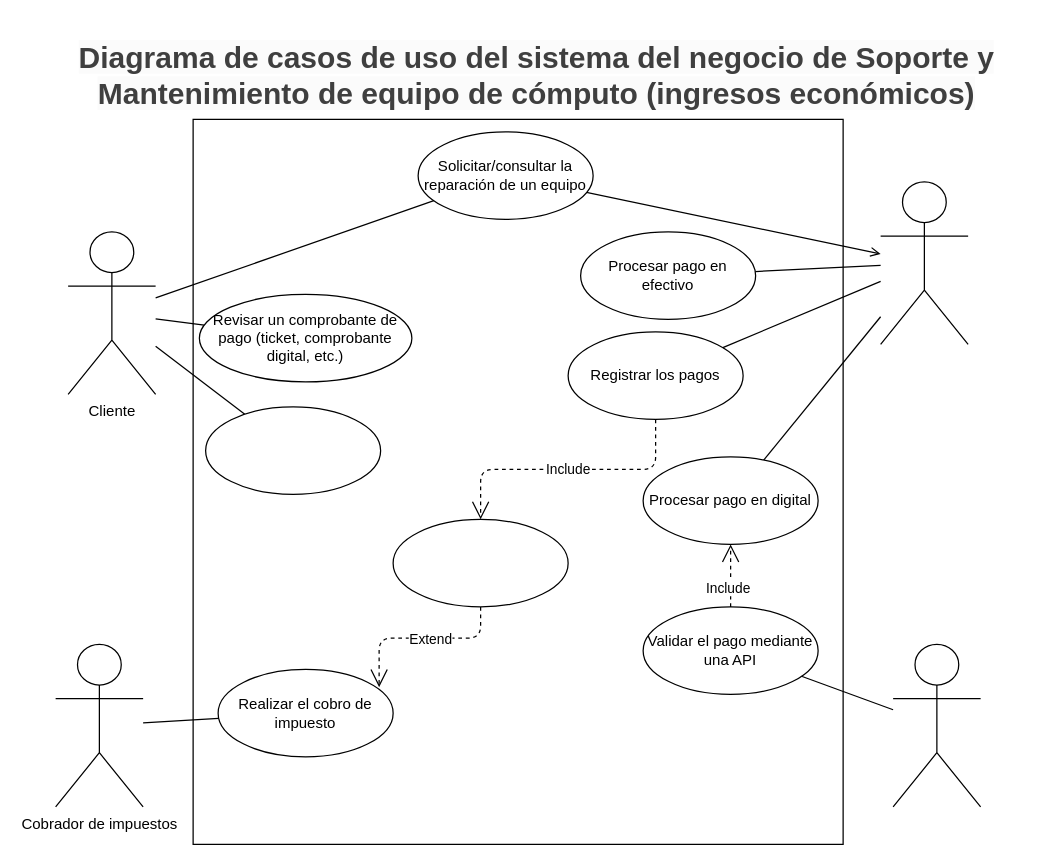
Image size: 1053x866. Some labels were removed from this diagram. Each missing label, with the centre of its shape:
"Cancelar el servicio" goes at point 292,450.
"Generación de una factura fiscal" goes at point 480,562.
"MasterCard / Mercado Pago" goes at point 936,725.
"Técnico" goes at point 923,262.
